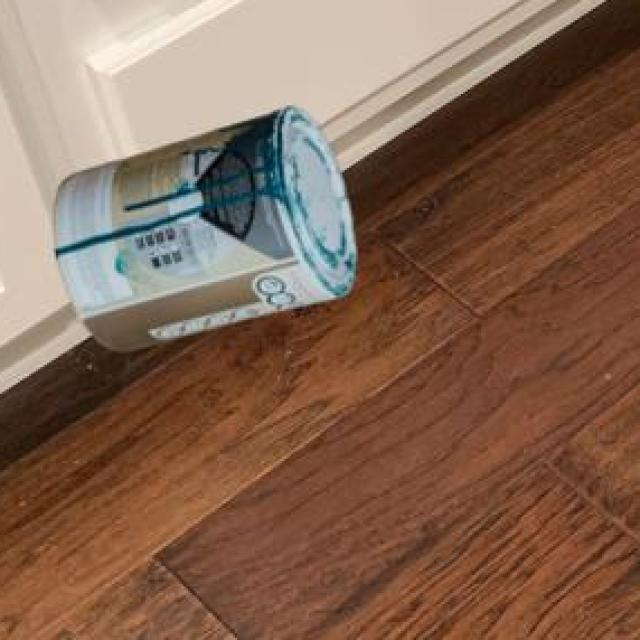logam: (50, 104, 352, 348)
